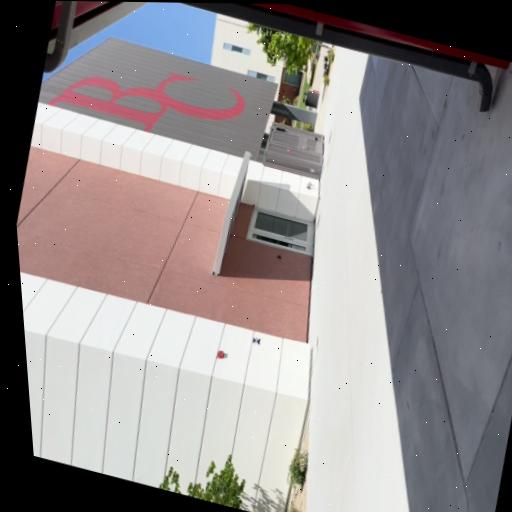target9: (252, 336, 261, 345)
